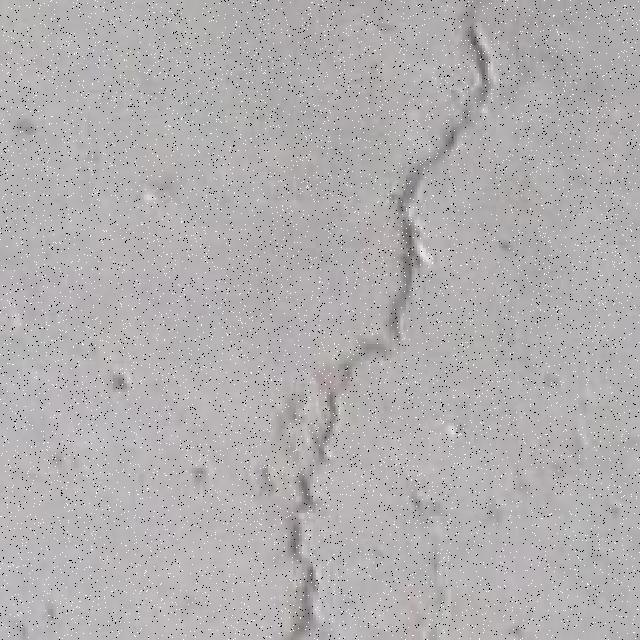Crack: (262, 7, 495, 636)
